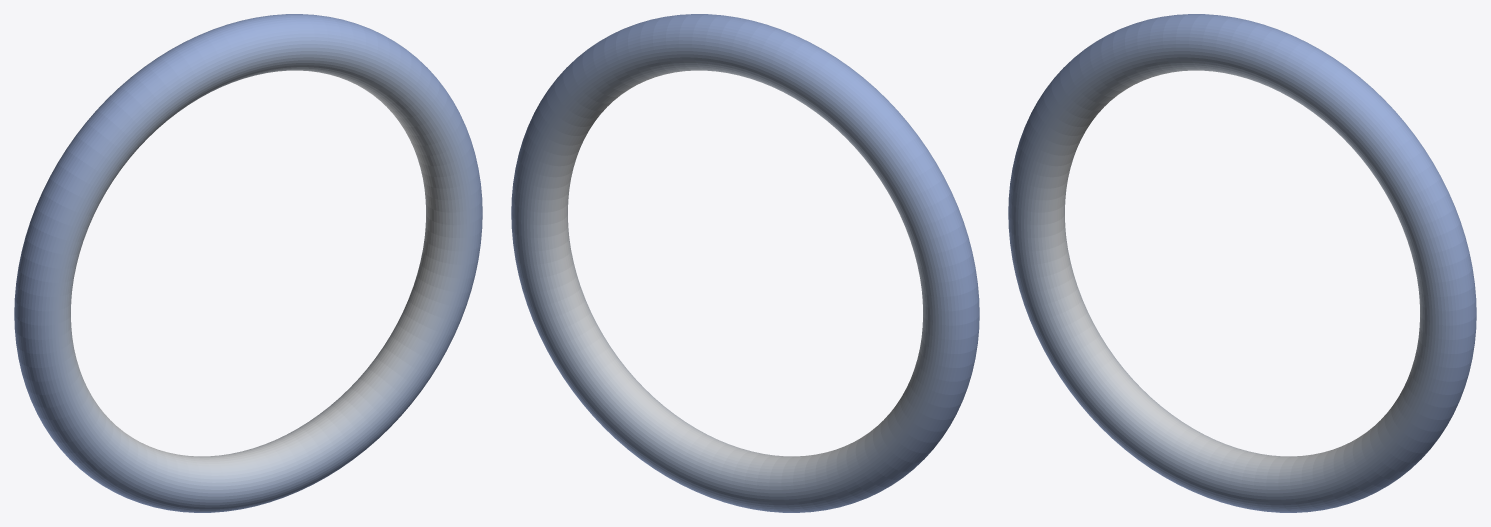
3 views of the same model, side by side, from view 1: azimuth 30°, elevation 25°; view 2: azimuth 150°, elevation 25°; view 3: azimuth 330°, elevation 25° (orthographic).
Parts seen in each view (by area): view 1: world; view 2: world; view 3: world.
Boxes of the visible parts, bbox=[...] form: world: bbox=[14, 14, 482, 512]; world: bbox=[511, 14, 979, 512]; world: bbox=[1008, 14, 1476, 512].
Bounding box in the file's own units: 31.33 × 31.33 × 3.33.
